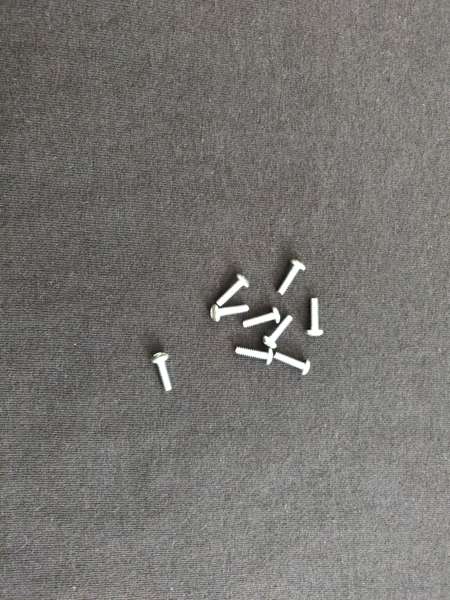shortscrew: (208, 272, 256, 309), (150, 348, 181, 397), (272, 256, 309, 296), (276, 347, 312, 378), (263, 315, 295, 345), (233, 344, 278, 365), (208, 306, 249, 323), (307, 298, 324, 338), (244, 310, 279, 327), (266, 337, 271, 348)
